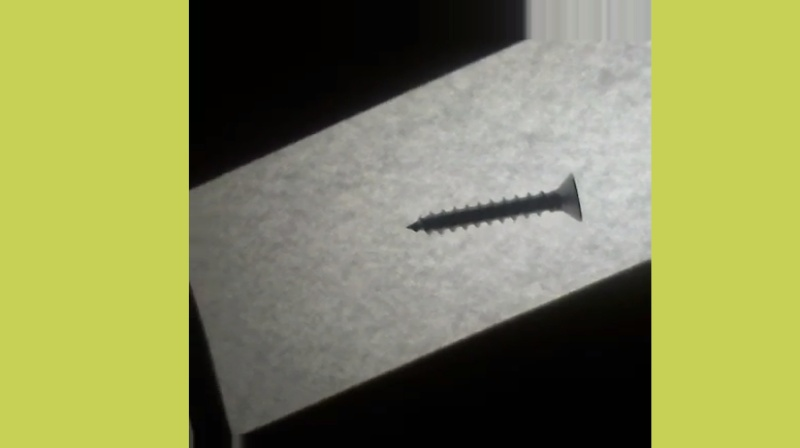S001: (403, 170, 588, 236)
